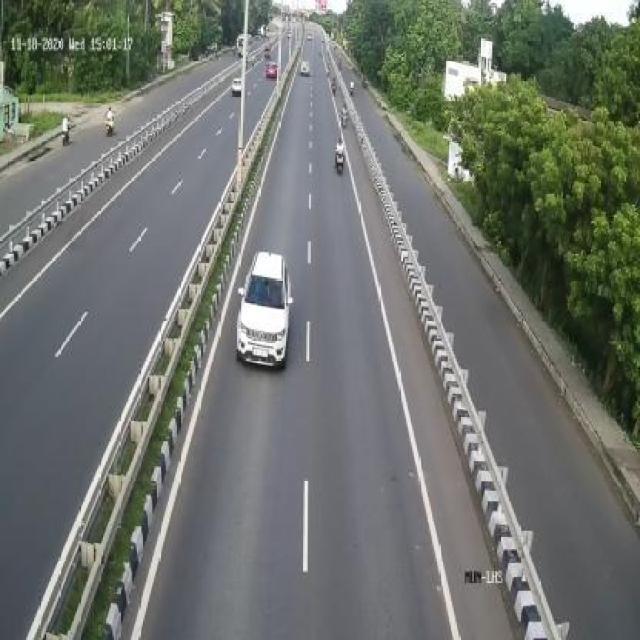car: (235, 250, 292, 372), (297, 58, 312, 82)
